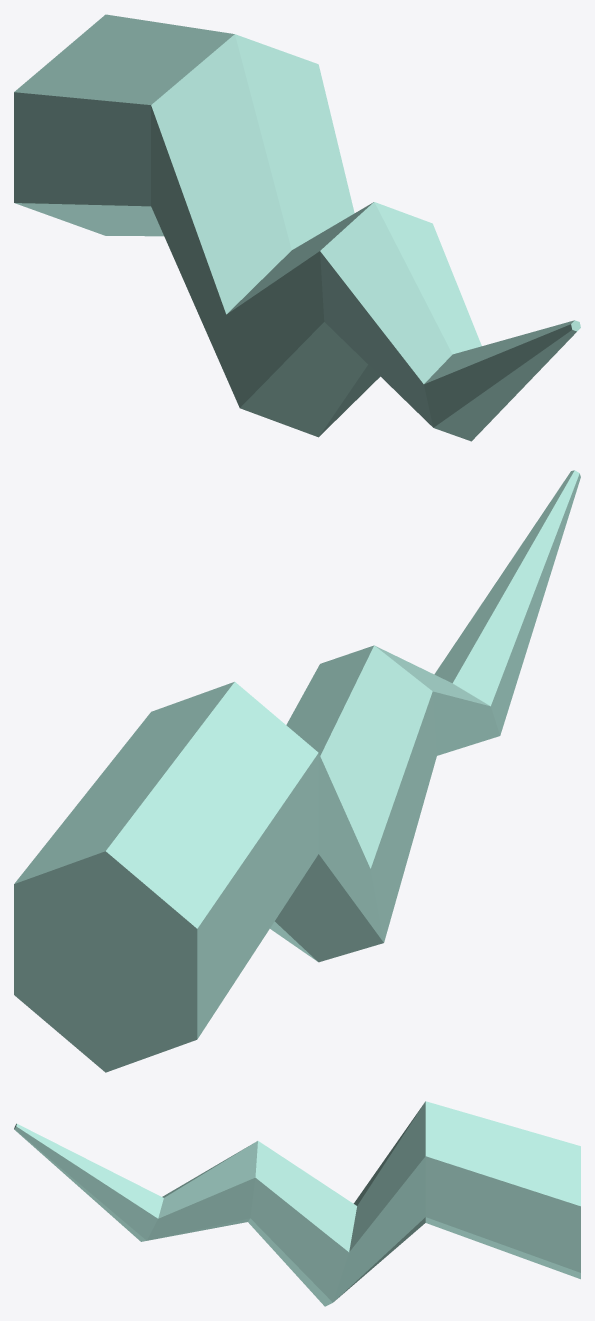
Rendered from Ice1.fbx.
The picture shows the model from 3 angles, top to bottom: view 1: azimuth 30°, elevation 25°; view 2: azimuth 150°, elevation 25°; view 3: azimuth 270°, elevation 25°; orthographic projection. The views are drawn at different scales.
Parts seen in each view (by area): view 1: Peak; view 2: Peak; view 3: Peak.
Part boxes in pixels (x1=…): Peak: x1=14, y1=14, x2=580, y2=441; Peak: x1=14, y1=470, x2=580, y2=1072; Peak: x1=14, y1=1101, x2=580, y2=1306.
Bounding box in the file's own units: 211 × 377 × 942.
